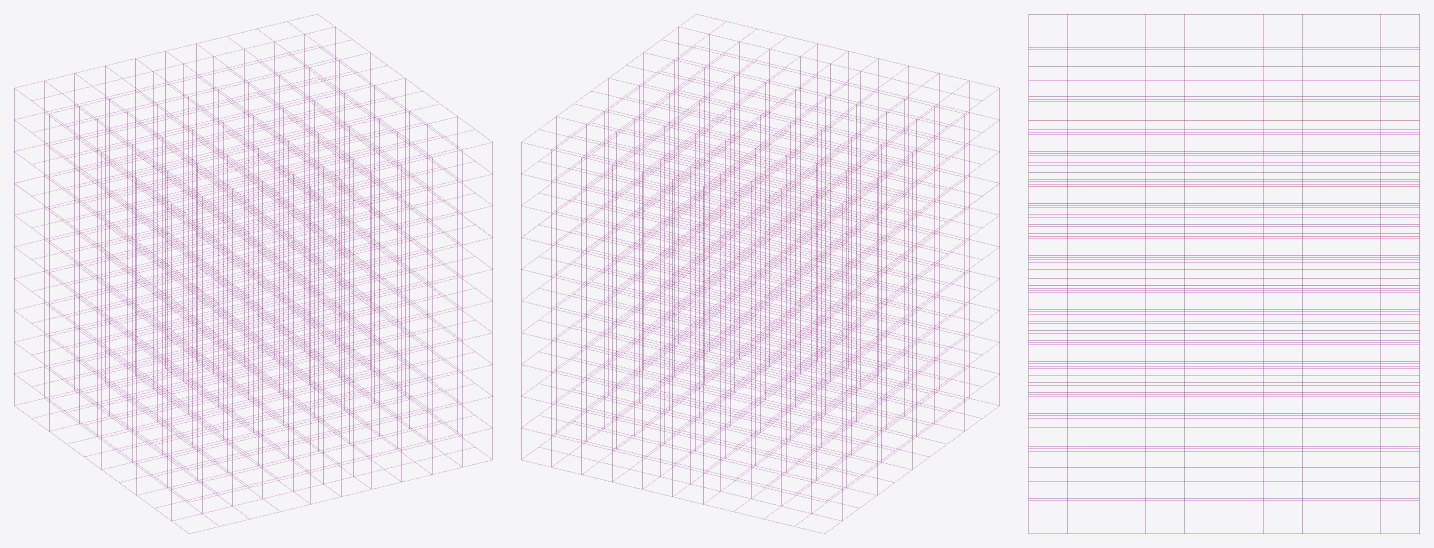
File: systemArray.obj
3 views of the same model, side by side, from view 1: azimuth 30°, elevation 25°; view 2: azimuth 150°, elevation 25°; view 3: azimuth 270°, elevation 25° (orthographic). The views are drawn at different scales.
Visible parts, largest first — view 1: Cylinder.014, Cylinder.021, Cylinder.019, Cylinder.020, Cylinder.015, Cylinder.018, Cylinder.034, Cylinder.033, Cylinder.032, Cylinder.028, Cylinder.004, Cylinder.011 (+21 smaller); view 2: Cylinder.014, Cylinder.021, Cylinder.019, Cylinder.020, Cylinder.015, Cylinder.018, Cylinder.034, Cylinder.033, Cylinder.032, Cylinder.028, Cylinder.004, Cylinder.011 (+21 smaller); view 3: Cylinder.012, Cylinder.031, Cylinder.002, Cylinder.003, Cylinder.010, Cylinder.025, Cylinder.030, Cylinder.009, Cylinder.023, Cylinder.006, Cylinder.026, Cylinder.029 (+1 smaller).
Boxes of the visible parts, left/top/right/bottom form: Cylinder.014: left=135, top=59, right=310, bottom=503; Cylinder.021: left=165, top=51, right=341, bottom=496; Cylinder.019: left=196, top=44, right=371, bottom=488; Cylinder.020: left=44, top=81, right=202, bottom=513; Cylinder.015: left=274, top=42, right=432, bottom=474; Cylinder.018: left=74, top=73, right=232, bottom=505; Cylinder.034: left=304, top=34, right=462, bottom=466; Cylinder.033: left=15, top=14, right=490, bottom=216; Cylinder.032: left=15, top=46, right=492, bottom=247; Cylinder.028: left=14, top=77, right=491, bottom=279; Cylinder.004: left=15, top=141, right=492, bottom=343; Cylinder.011: left=16, top=109, right=491, bottom=311; Cylinder.014: left=703, top=59, right=878, bottom=503; Cylinder.021: left=672, top=51, right=848, bottom=496; Cylinder.019: left=642, top=44, right=817, bottom=488; Cylinder.020: left=811, top=81, right=969, bottom=513; Cylinder.015: left=581, top=42, right=739, bottom=474; Cylinder.018: left=781, top=73, right=939, bottom=505; Cylinder.034: left=551, top=34, right=709, bottom=466; Cylinder.033: left=523, top=14, right=998, bottom=216; Cylinder.032: left=521, top=46, right=998, bottom=247; Cylinder.028: left=522, top=77, right=999, bottom=279; Cylinder.004: left=521, top=141, right=998, bottom=343; Cylinder.011: left=522, top=109, right=997, bottom=311; Cylinder.012: left=1028, top=179, right=1419, bottom=533; Cylinder.031: left=1028, top=14, right=1419, bottom=179; Cylinder.002: left=1028, top=226, right=1419, bottom=392; Cylinder.003: left=1028, top=155, right=1419, bottom=321; Cylinder.010: left=1028, top=120, right=1419, bottom=285; Cylinder.025: left=1028, top=333, right=1419, bottom=498; Cylinder.030: left=1028, top=49, right=1419, bottom=214; Cylinder.009: left=1029, top=262, right=1418, bottom=427; Cylinder.023: left=1029, top=368, right=1418, bottom=533; Cylinder.006: left=1029, top=207, right=1418, bottom=340; Cylinder.026: left=1029, top=314, right=1418, bottom=446; Cylinder.029: left=1029, top=101, right=1418, bottom=233.
Size of the model in its own units: 20.01 by 20.01 by 20.01.
